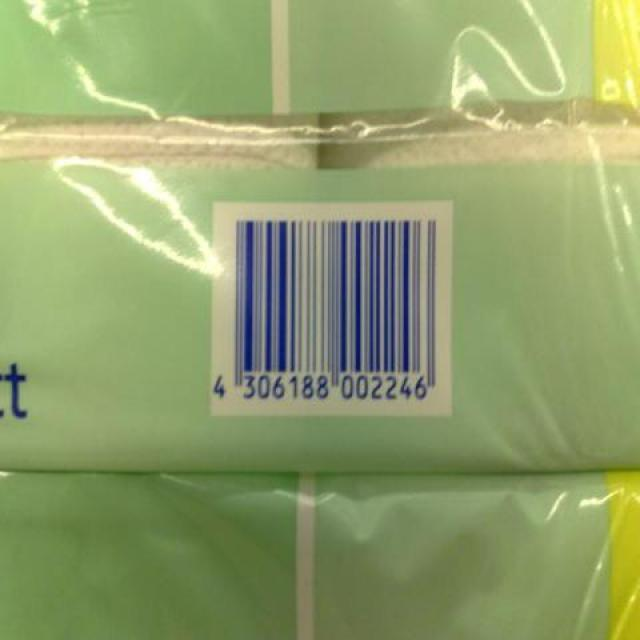Barcode: (213, 201, 451, 419)
